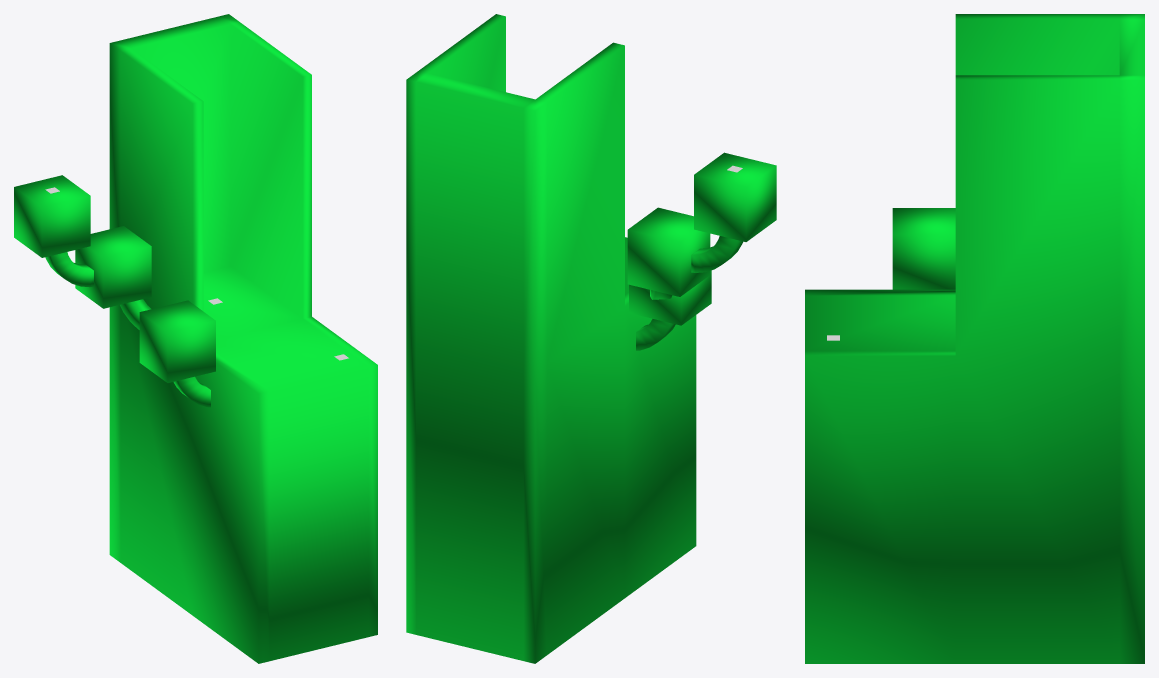
Rendered from level-03.glb.
The picture shows the model from 3 angles, left to right: view 1: azimuth 30°, elevation 25°; view 2: azimuth 150°, elevation 25°; view 3: azimuth 270°, elevation 25°; orthographic projection. The views are drawn at different scales.
Parts seen in each view (by area): view 1: Cube.001; view 2: Cube.001; view 3: Cube.001.
Part boxes in pixels (left/top/right/bottom): Cube.001: left=14, top=14, right=377, bottom=663; Cube.001: left=406, top=14, right=776, bottom=663; Cube.001: left=805, top=14, right=1144, bottom=663.
Bounding box in the file's own units: 54.66 × 101 × 53.3.
